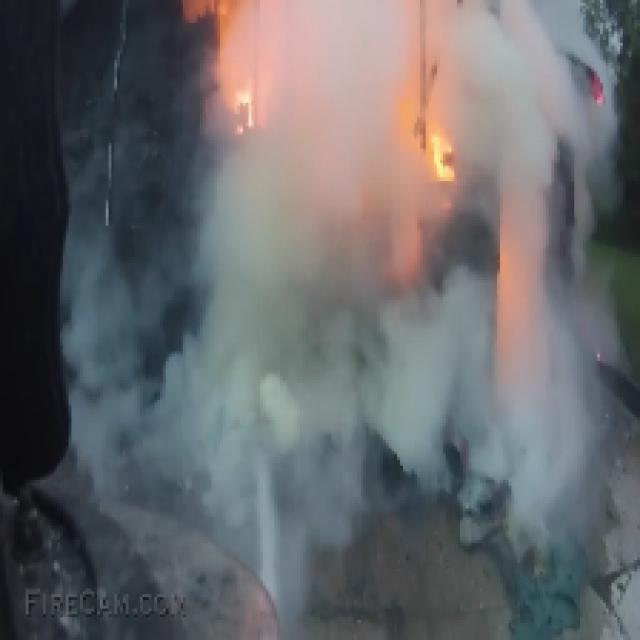Smoke: (61, 0, 634, 614)
